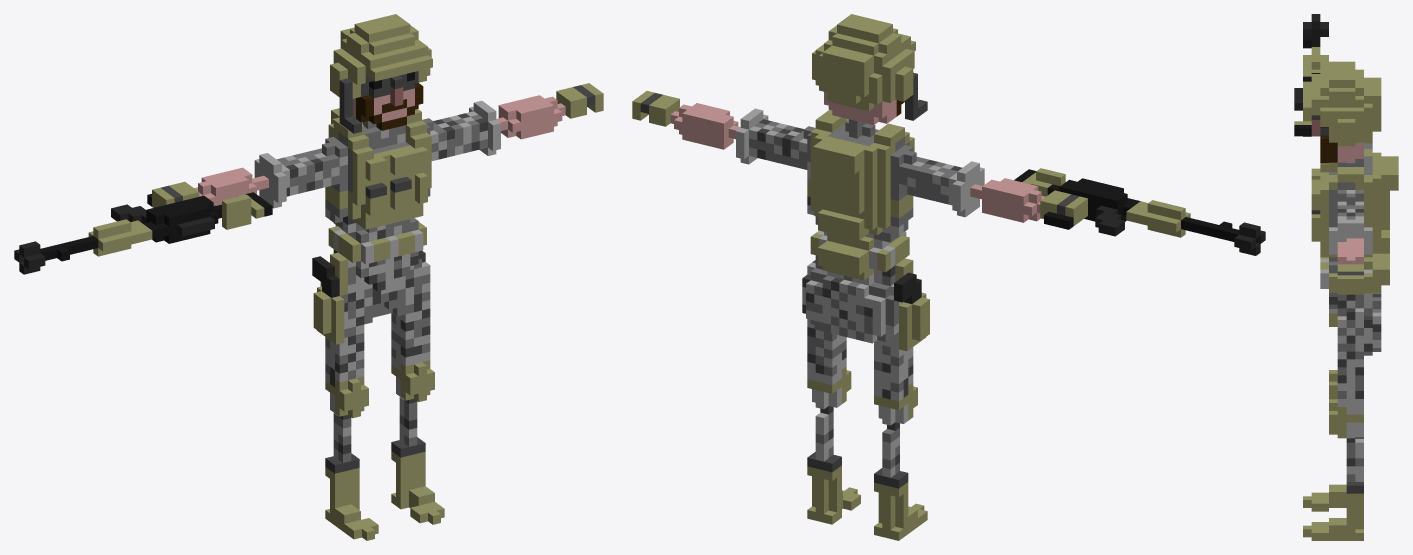
Rendered from soldier.obj.
The picture shows the model from 3 angles, left to right: view 1: azimuth 30°, elevation 25°; view 2: azimuth 150°, elevation 25°; view 3: azimuth 270°, elevation 25°; orthographic projection. The views are drawn at different scales.
Bounding box in the file's own units: 7.2 × 5.7 × 1.2.
1 material, 1 textured.
